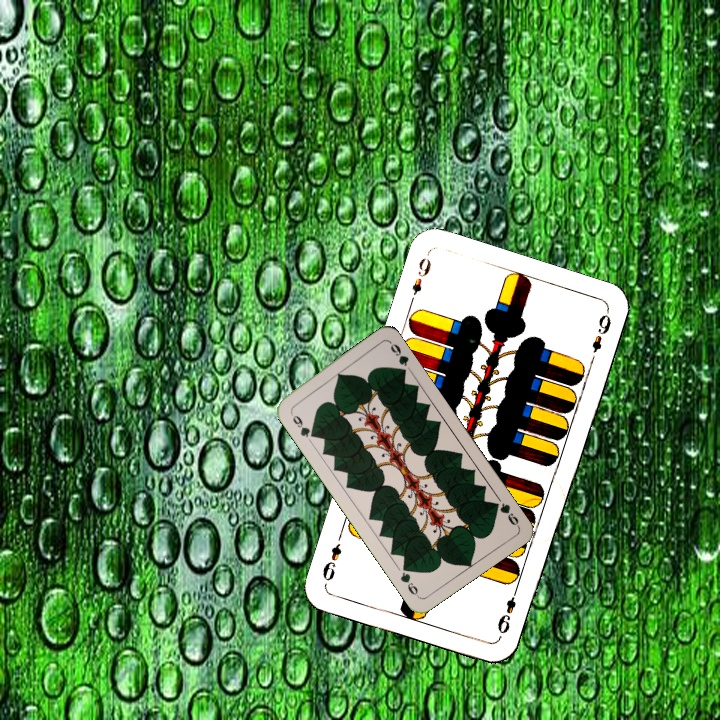E9: (405, 250, 434, 308), (493, 583, 521, 641)
G9: (488, 498, 522, 529), (286, 408, 318, 440)
